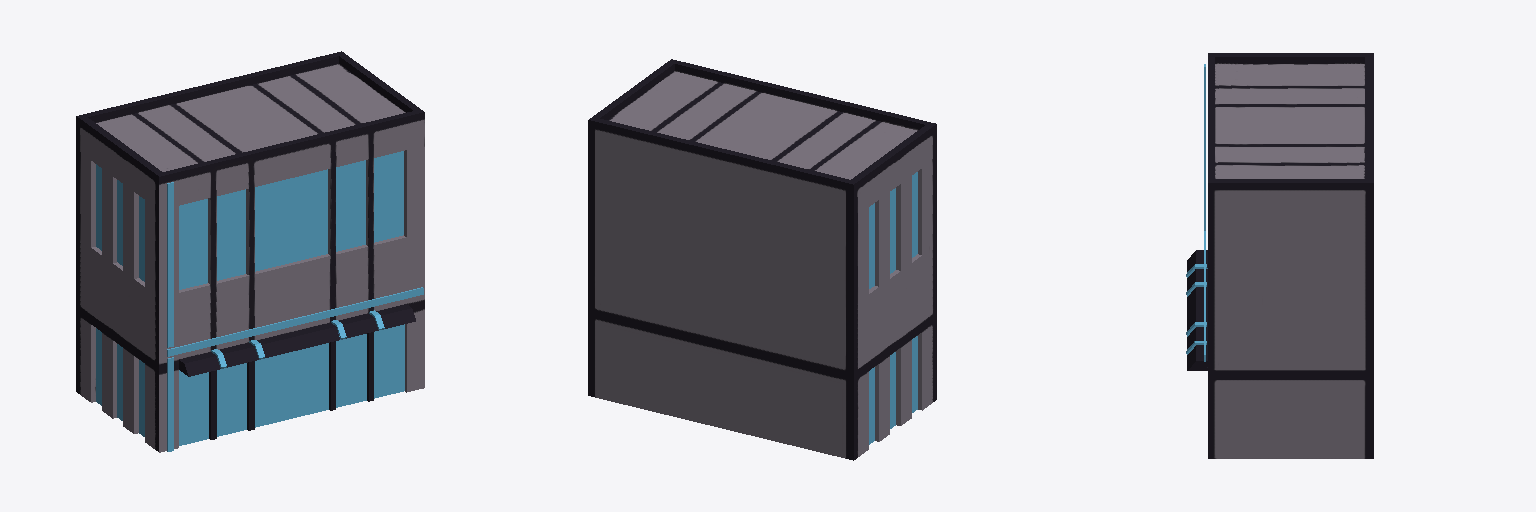
3 renders of one model, left to right at view 1: azimuth 30°, elevation 25°; view 2: azimuth 150°, elevation 25°; view 3: azimuth 270°, elevation 25°, orthographic.
Parts seen in each view (by area): view 1: Cube.003_Cube.002; view 2: Cube.003_Cube.002; view 3: Cube.003_Cube.002.
Boxes of the visible parts, <box> form: Cube.003_Cube.002: <box>76,51,424,452</box>; Cube.003_Cube.002: <box>588,59,936,460</box>; Cube.003_Cube.002: <box>1186,53,1373,458</box>.
Bounding box in the file's own units: 11.3 × 11.23 × 6.9.
4 materials, 1 textured.